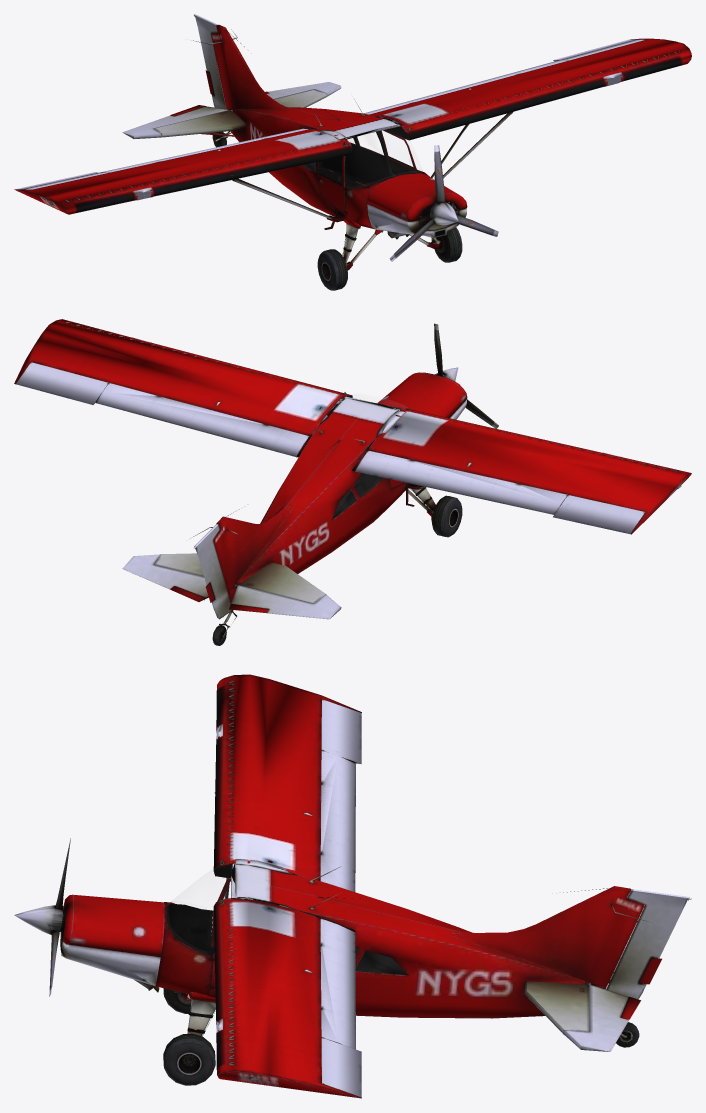
File: maule-DN65oTuk.glb
3 views of the same model, one above another, from view 1: azimuth 30°, elevation 25°; view 2: azimuth 150°, elevation 25°; view 3: azimuth 270°, elevation 25° (orthographic). The views are drawn at different scales.
Parts seen in each view (by area): view 1: Object_2, Object_5; view 2: Object_2, Object_5; view 3: Object_2, Object_5.
Boxes of the visible parts, left/top/right/bottom form: Object_2: left=14, top=25, right=691, bottom=232; Object_5: left=16, top=14, right=644, bottom=290; Object_2: left=14, top=319, right=691, bottom=623; Object_5: left=16, top=323, right=645, bottom=645; Object_2: left=144, top=674, right=651, bottom=1098; Object_5: left=14, top=699, right=691, bottom=1097.
Size of the model in its own units: 395 by 96.92 by 285.
Materials: 3 (2 with a texture image).
